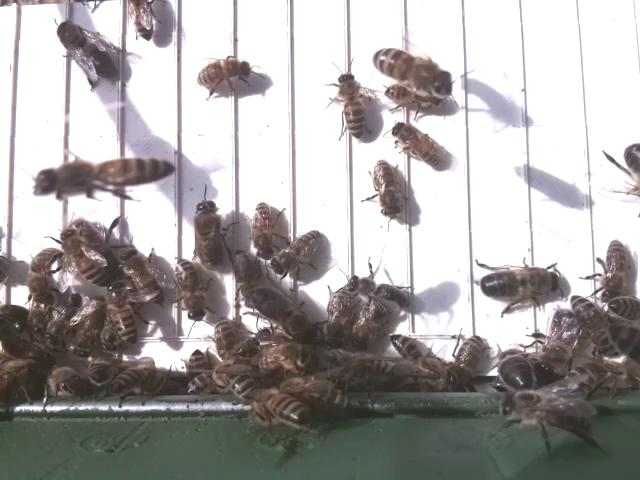Drone: (50, 17, 120, 86), (474, 264, 564, 304), (190, 197, 228, 273)
Worker: (31, 158, 174, 195), (370, 43, 452, 93), (58, 226, 108, 289), (121, 248, 166, 307), (344, 270, 412, 309), (172, 255, 206, 326), (232, 246, 265, 318), (336, 69, 368, 142), (600, 234, 631, 308), (25, 245, 60, 309), (275, 227, 324, 272), (393, 123, 444, 165), (107, 286, 140, 350), (192, 57, 253, 91), (373, 158, 405, 222), (250, 200, 276, 261)
